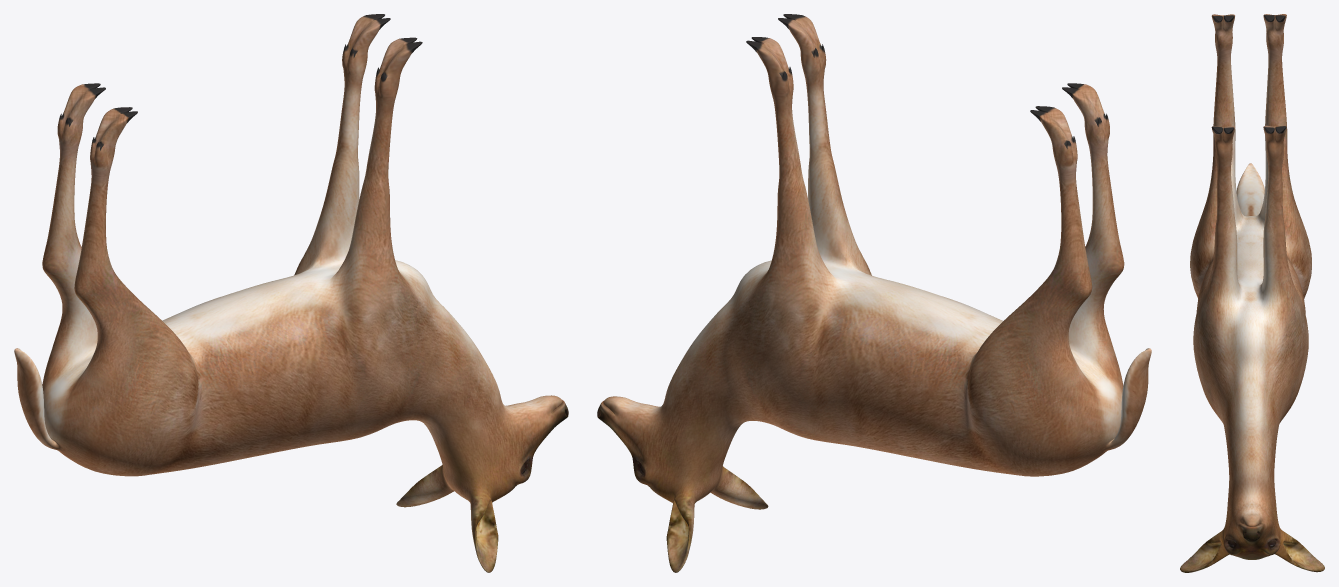
Rendered from deer2.gltf.
3 views of the same model, side by side, from view 1: azimuth 30°, elevation 25°; view 2: azimuth 150°, elevation 25°; view 3: azimuth 270°, elevation 25° (orthographic). The views are drawn at different scales.
Parts seen in each view (by area): view 1: 12961_White-Tailed_Deer_v1_l2; view 2: 12961_White-Tailed_Deer_v1_l2; view 3: 12961_White-Tailed_Deer_v1_l2.
Boxes of the visible parts, box(x1,y1,x2,y2) form: 12961_White-Tailed_Deer_v1_l2: box(14, 14, 568, 572); 12961_White-Tailed_Deer_v1_l2: box(597, 14, 1151, 572); 12961_White-Tailed_Deer_v1_l2: box(1180, 14, 1324, 572).
Size of the model in its own units: 48.45 by 43.9 by 13.67.
1 material, 1 textured.
